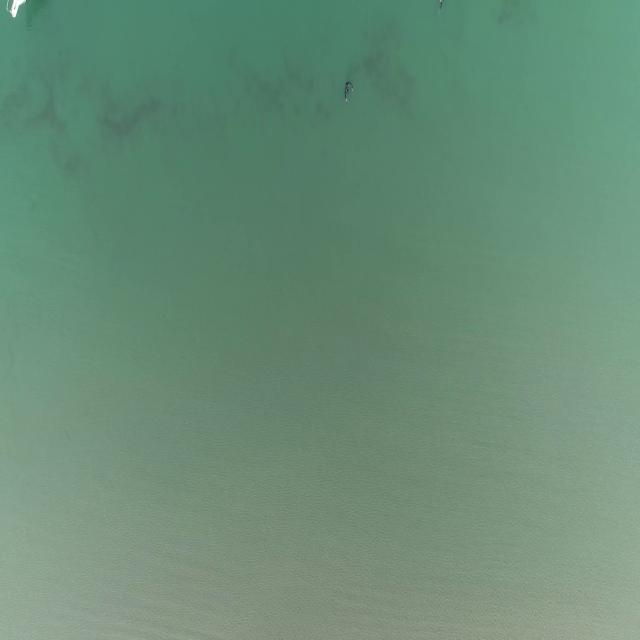person: (343, 80, 356, 103)
